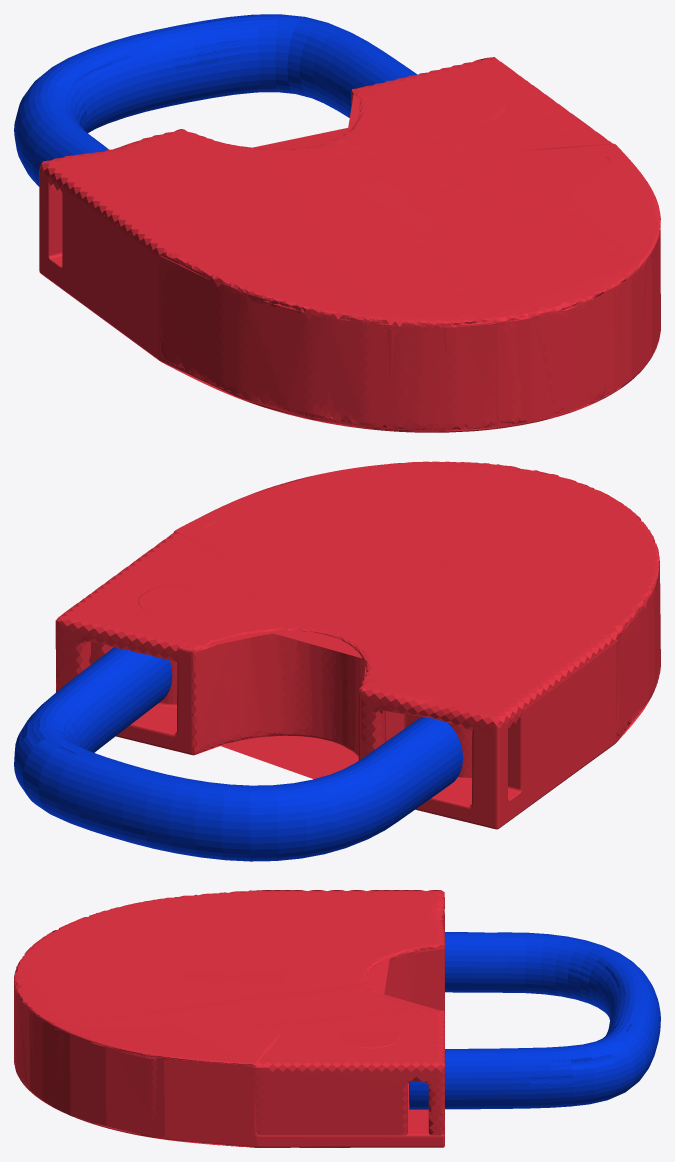
Rendered from Lock_1.fbx.
3 renders of one model, top to bottom at view 1: azimuth 30°, elevation 25°; view 2: azimuth 150°, elevation 25°; view 3: azimuth 270°, elevation 25°, orthographic. The views are drawn at different scales.
Parts seen in each view (by area): view 1: Body_part_1(87mm), Cylinder; view 2: Body_part_1(87mm), Cylinder; view 3: Body_part_1(87mm), Cylinder.
Boxes of the visible parts, <box> form: Body_part_1(87mm): <box>39,57,660,432</box>; Cylinder: <box>14,14,417,186</box>; Body_part_1(87mm): <box>55,461,660,829</box>; Cylinder: <box>14,647,462,861</box>; Body_part_1(87mm): <box>14,890,444,1147</box>; Cylinder: <box>409,932,660,1109</box>.
Size of the model in its own units: 1163 by 275 by 1842.
